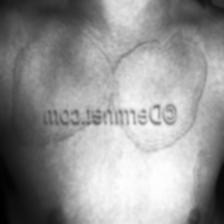Unclassified: (116, 29, 210, 151), (0, 42, 112, 140)
